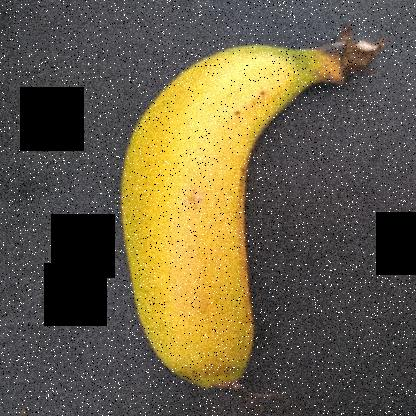freshripe: (81, 39, 312, 402)
